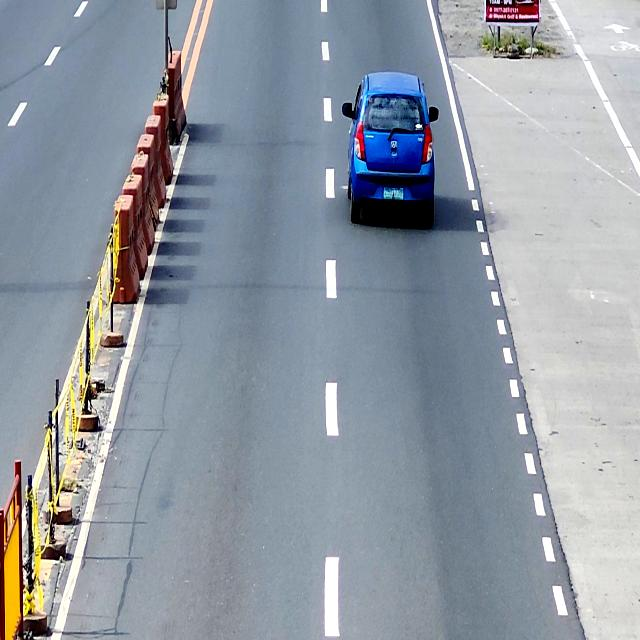Car: (342, 70, 438, 226)
License-Plate: (382, 184, 405, 201)
